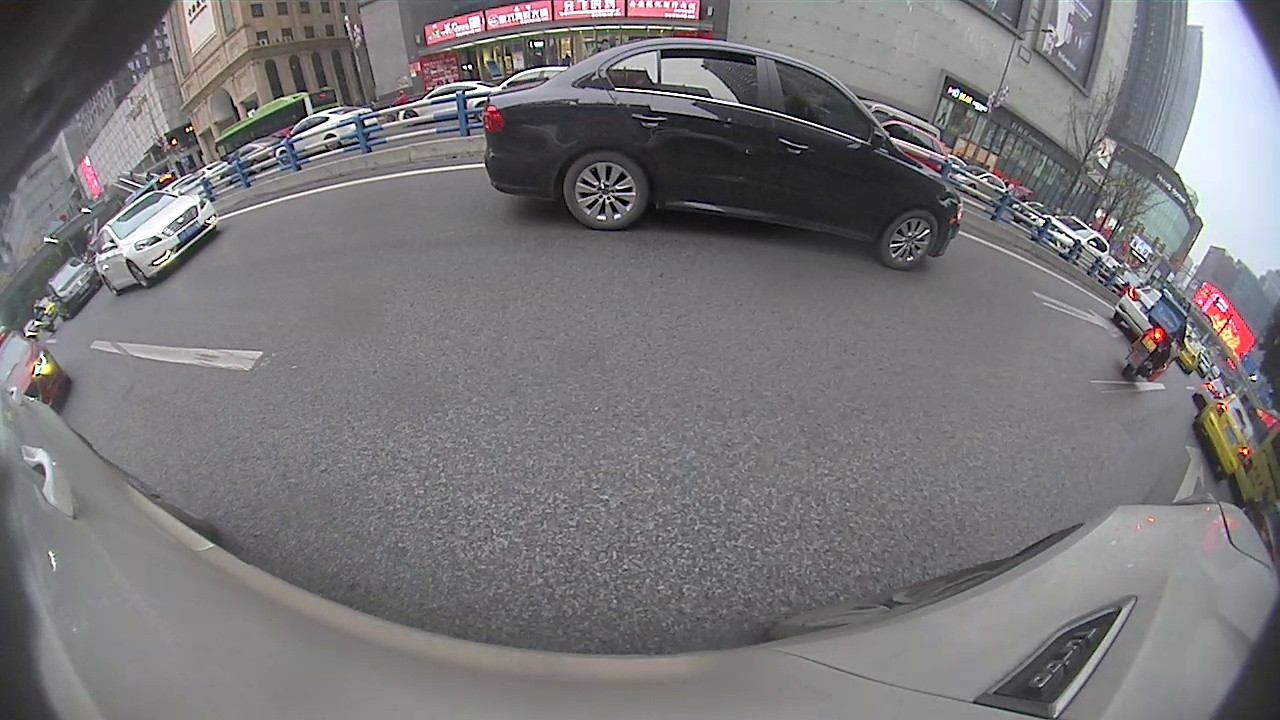car: (482, 37, 963, 272), (91, 189, 220, 299)
front: (879, 208, 940, 270), (126, 260, 151, 289)
rear: (563, 152, 649, 230)
rider: (1117, 293, 1194, 385)
